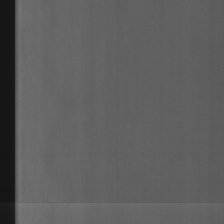welding_line: (14, 194, 224, 210)
